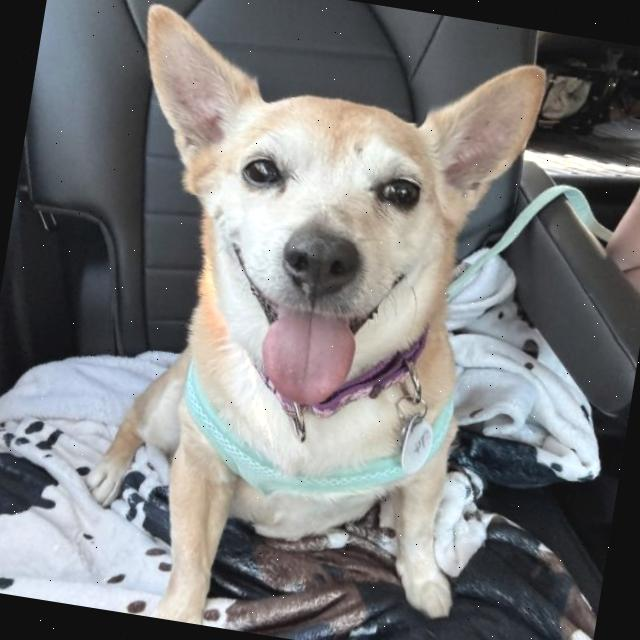corgi_dog: (69, 0, 564, 460)
